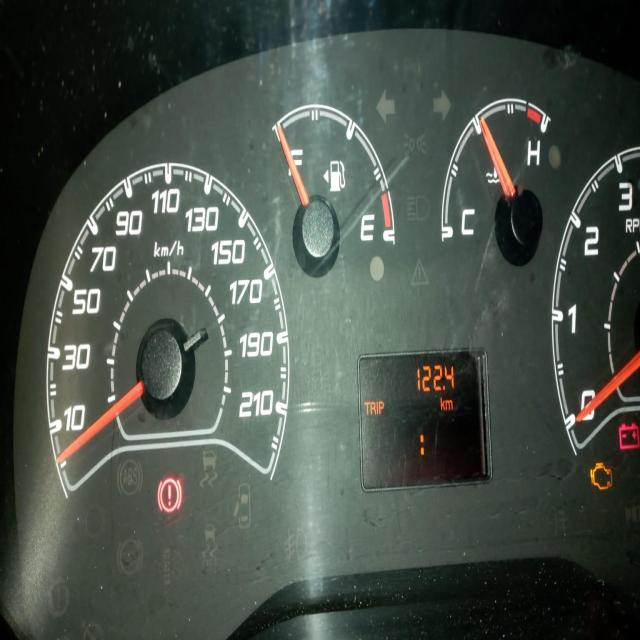odometer: (356, 344, 494, 496)
